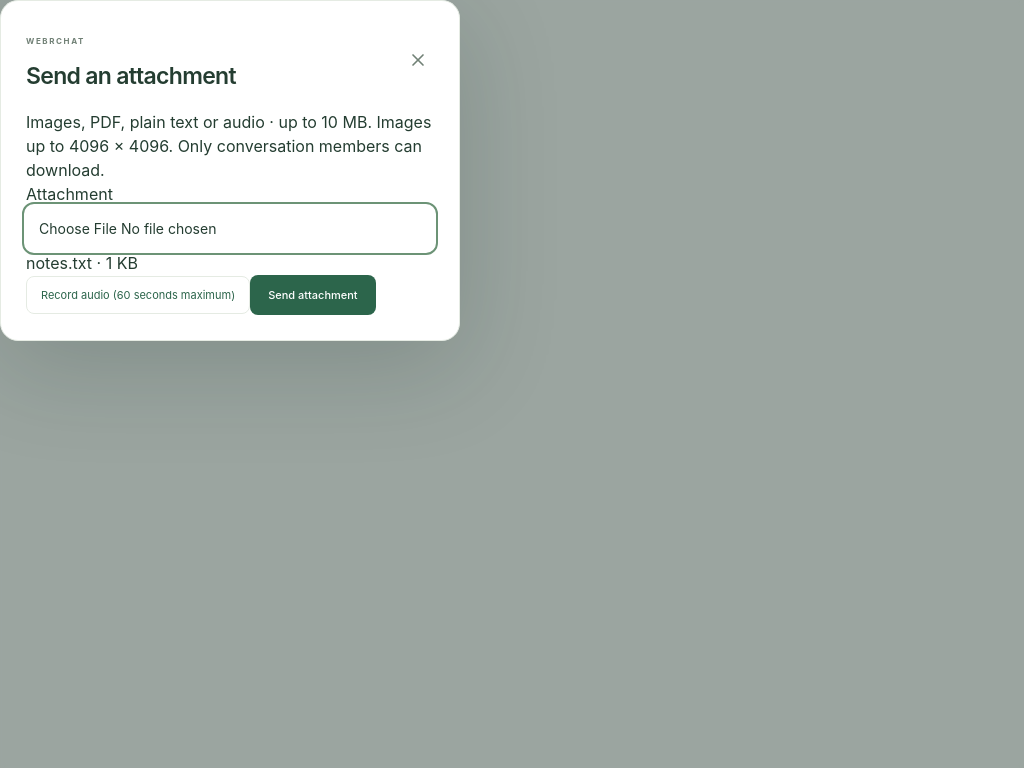
Test: retries an unconfirmed attachment with the same UUID, file and caption
Earlier steps of the test are not shown.
Later steps or results of the test are not shown.
Click the button "Send attachment": point(313, 295) [250,274,376,315]
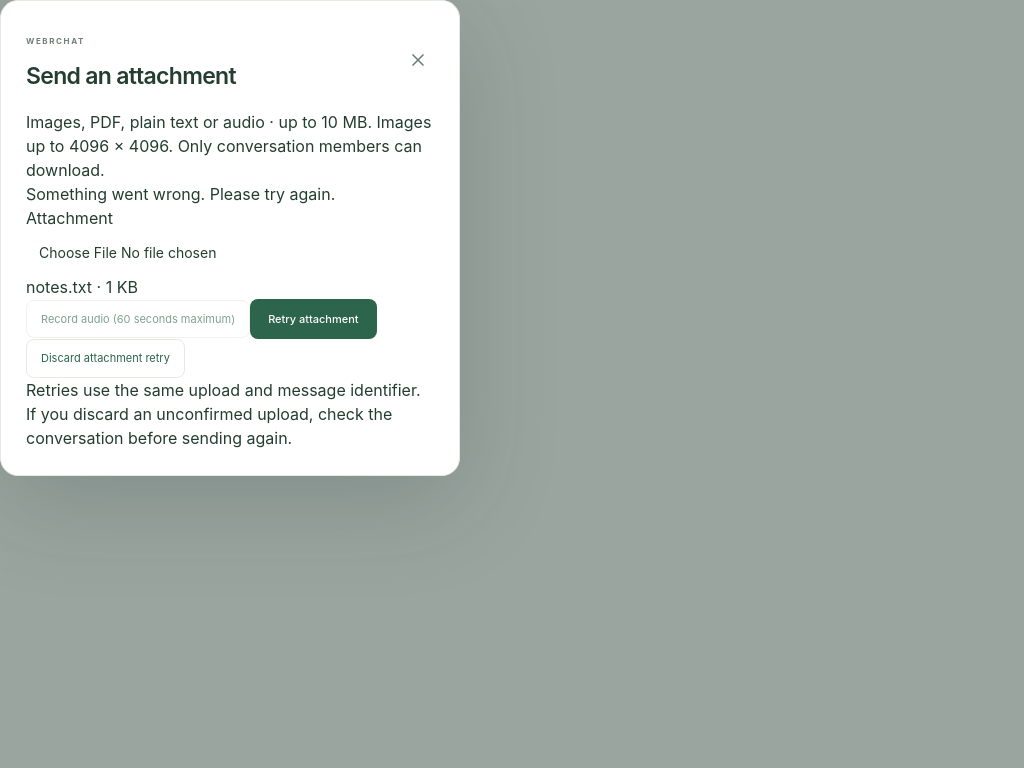
Expected: the message "Something went wrong. Please try again." is shown, [26,184,335,204]
Expected: the file field labelled "Attachment" is disabled, [26,230,434,274]
